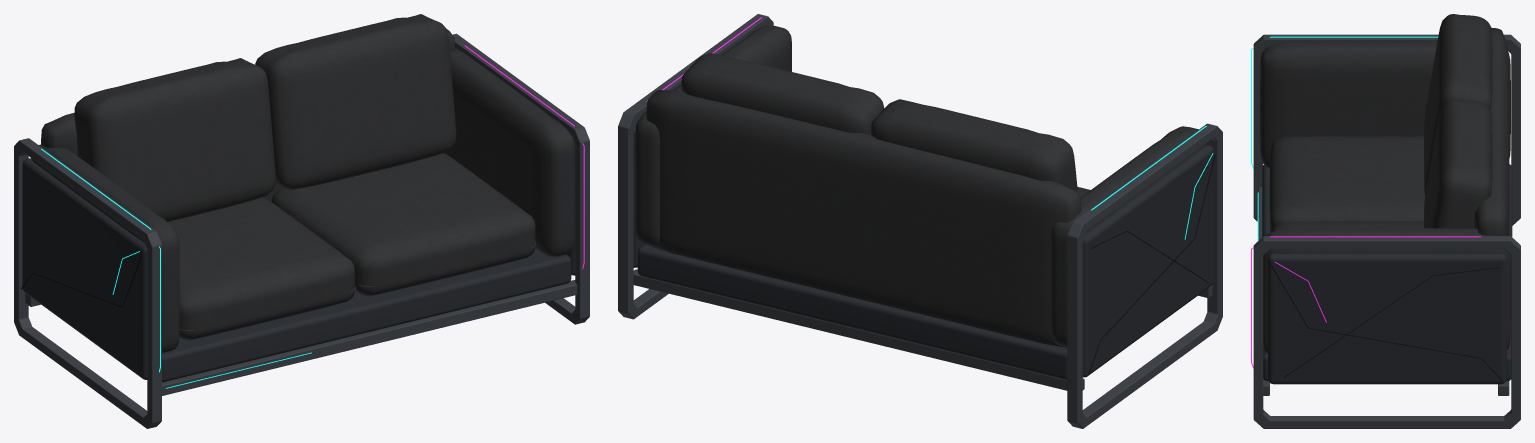
The model's file is cyberpunk_sofa_2_lugares.glb.
3 views of the same model, side by side, from view 1: azimuth 30°, elevation 25°; view 2: azimuth 150°, elevation 25°; view 3: azimuth 270°, elevation 25° (orthographic). The views are drawn at different scales.
Parts seen in each view (by area): view 1: sofa_2_lugares; view 2: sofa_2_lugares; view 3: sofa_2_lugares.
Part boxes in pixels (<box>): sofa_2_lugares: <box>14,14,589,428</box>; sofa_2_lugares: <box>618,14,1222,428</box>; sofa_2_lugares: <box>1251,14,1520,428</box>.
Bounding box in the file's own units: 1.62 × 0.8555 × 0.8887.
Materials: 8 (2 with a texture image).
